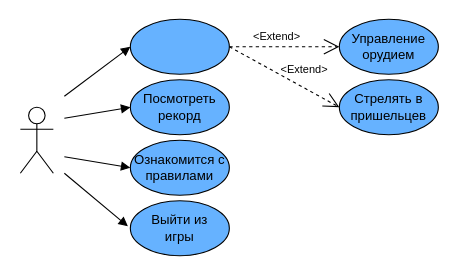
The diagram is 458 pixels wide and 275 high, and some of its shapes have lost their labels. Here are the shapes that lost their labels. From the top down, the centre of each, then its label:
At pixel 179 46: "Начать игру".
At pixel 36 139: "Игрок".
